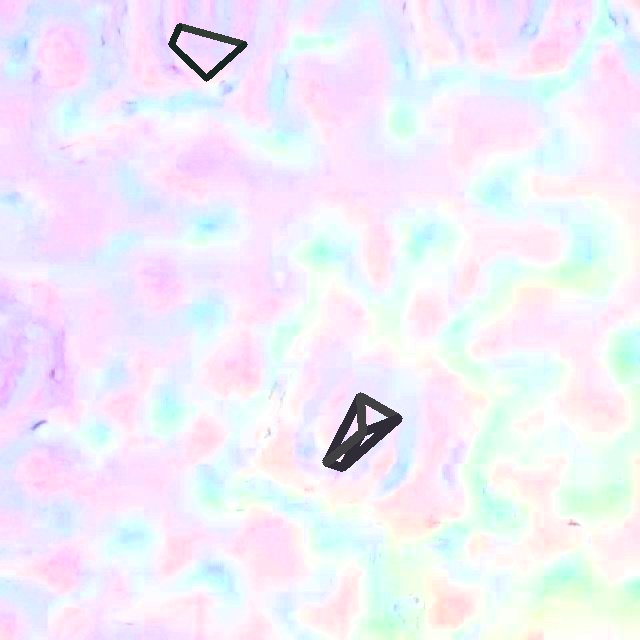close: (322, 392, 402, 471), (168, 23, 247, 81)
